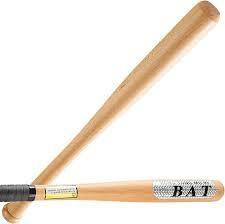Baseball-Bat: (33, 0, 218, 184), (0, 180, 224, 202)
